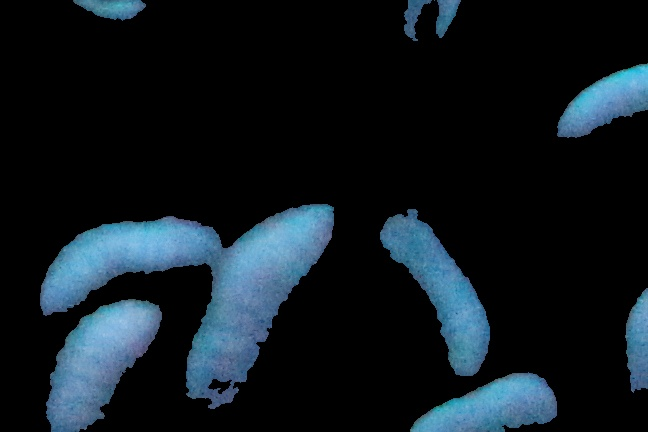larvae: (184, 204, 331, 403), (383, 210, 493, 386), (42, 215, 214, 316), (45, 300, 163, 429), (399, 374, 561, 432), (553, 61, 648, 139)
